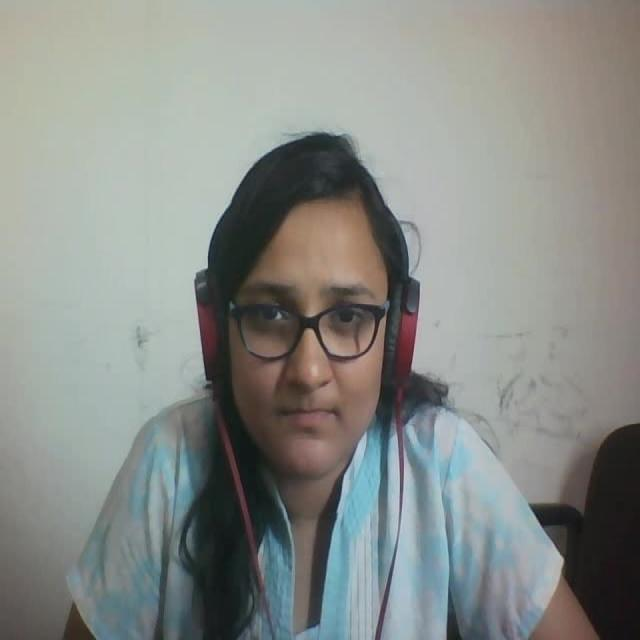Engaged: (211, 94, 423, 483)
